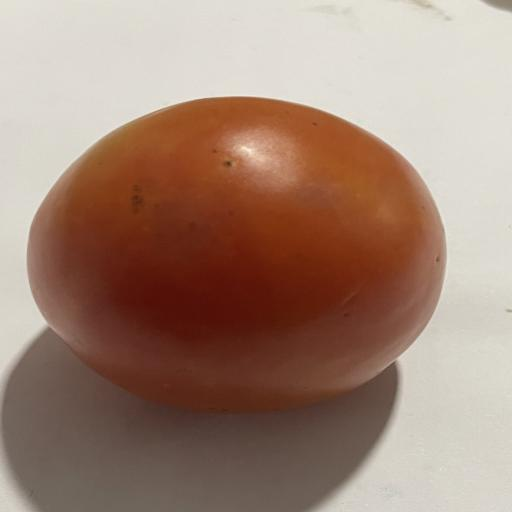ripe: (27, 97, 445, 411)
